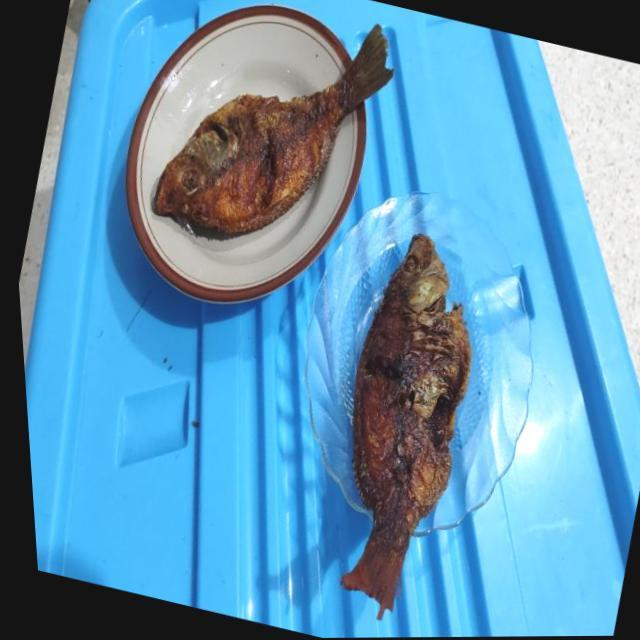ikan_mujair: (340, 233, 471, 620), (154, 24, 393, 234)
